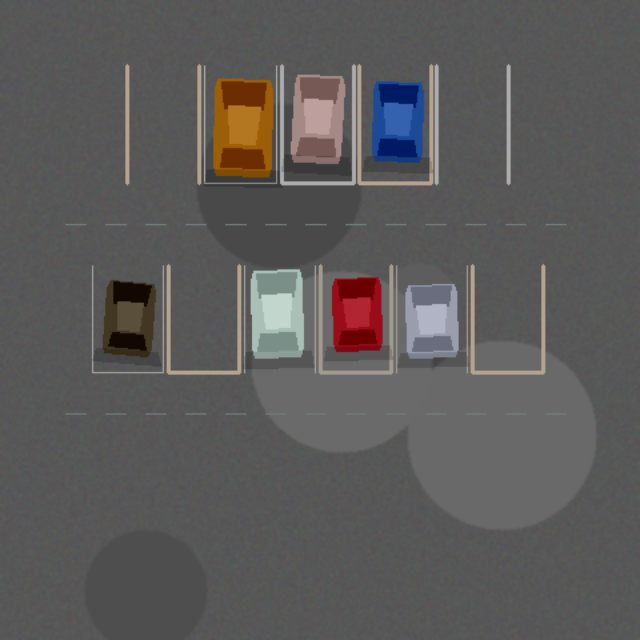space-empty: (127, 65, 199, 183), (436, 65, 508, 183), (168, 265, 239, 372), (472, 265, 543, 372)
space-occupied: (204, 65, 276, 183), (281, 65, 353, 183), (359, 65, 431, 183), (92, 265, 163, 372), (244, 265, 315, 372), (320, 265, 391, 372), (396, 265, 467, 372)
